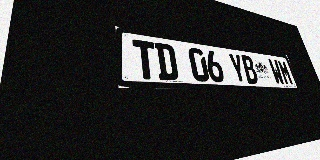0: (187, 47, 210, 82)
6: (204, 49, 225, 83)
B: (240, 55, 260, 84)
D: (154, 42, 179, 81)
M: (277, 60, 294, 85)
T: (132, 39, 158, 80)
W: (268, 59, 285, 85)
Y: (227, 53, 248, 83)
